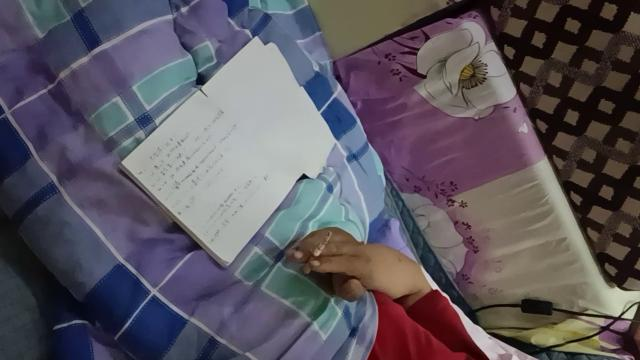Cigarette: (302, 231, 332, 274)
